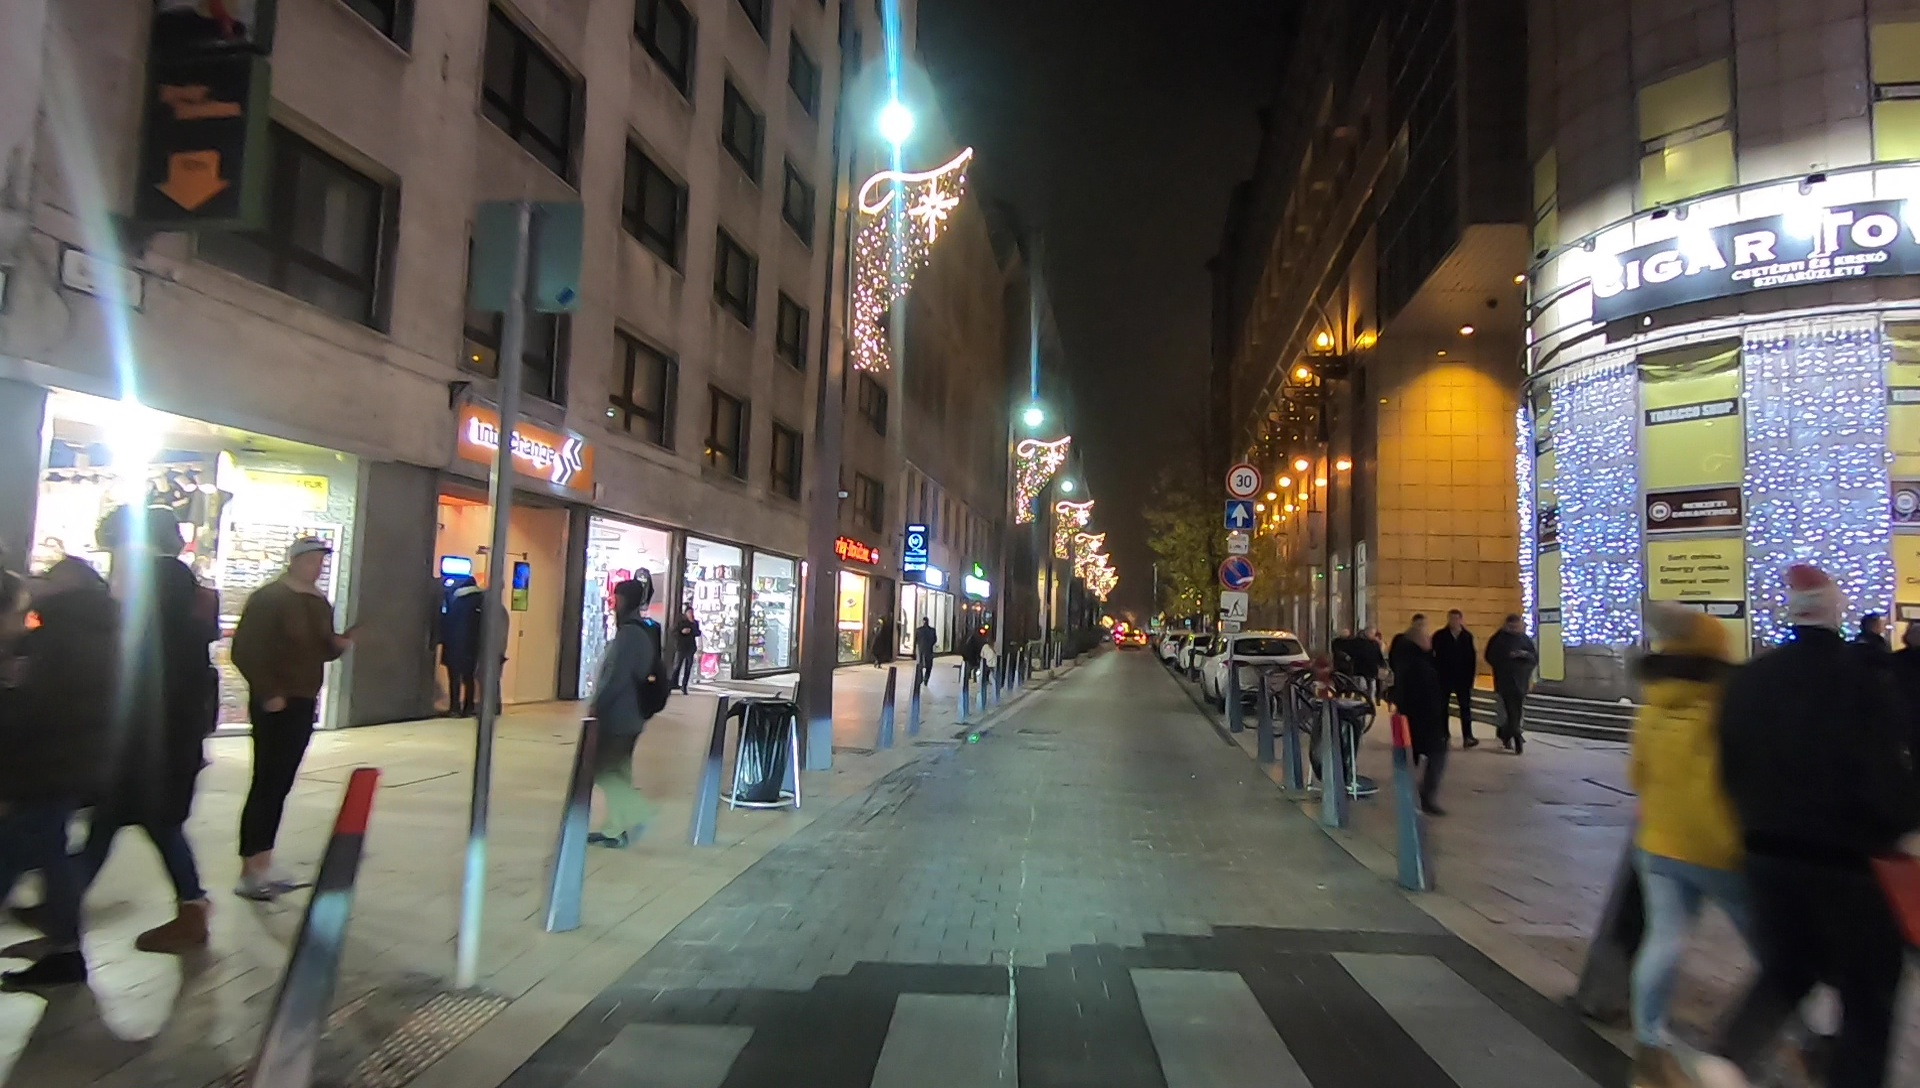person: (1723, 571, 1891, 1088), (1630, 589, 1758, 1058), (73, 558, 215, 960), (232, 541, 336, 902), (15, 556, 112, 934), (576, 576, 654, 850), (1389, 624, 1439, 750), (1488, 615, 1532, 749), (1434, 610, 1475, 745), (675, 595, 701, 691), (914, 619, 934, 682)
